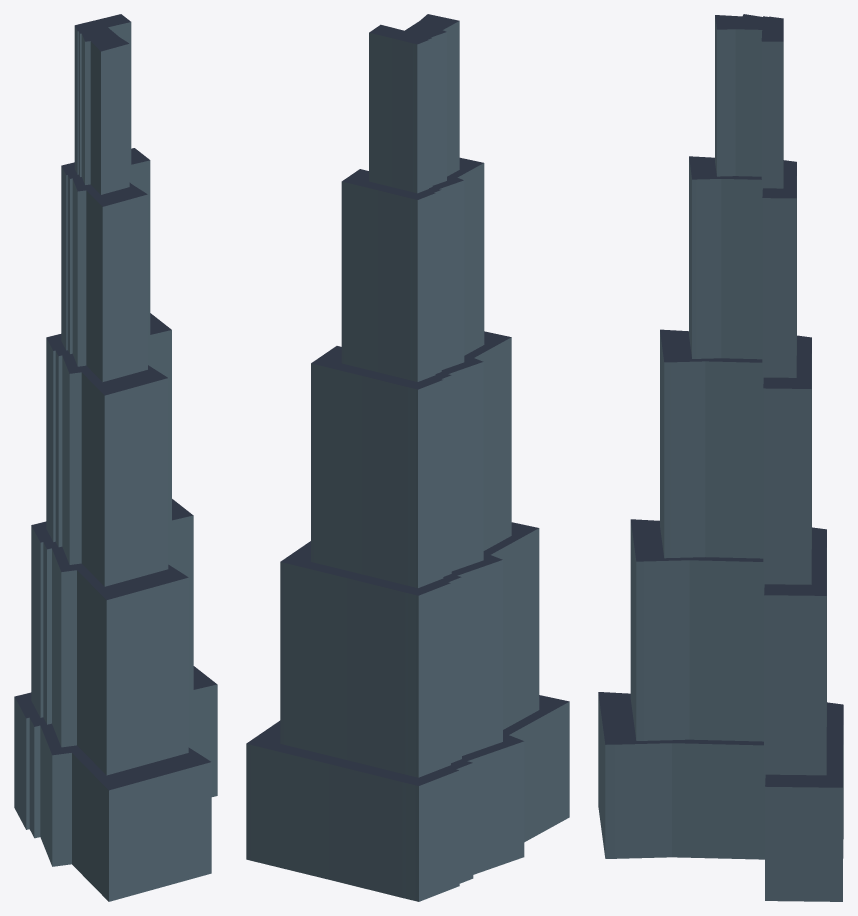
File: 8-bishopsgate.glb
3 renders of one model, left to right at view 1: azimuth 30°, elevation 25°; view 2: azimuth 150°, elevation 25°; view 3: azimuth 270°, elevation 25°, orthographic. The views are drawn at different scales.
Parts seen in each view (by area): view 1: 8-bishopsgate-1, 8-bishopsgate-0, 8-bishopsgate-2, 8-bishopsgate-3, 8-bishopsgate-4; view 2: 8-bishopsgate-1, 8-bishopsgate-2, 8-bishopsgate-0, 8-bishopsgate-3, 8-bishopsgate-4; view 3: 8-bishopsgate-1, 8-bishopsgate-0, 8-bishopsgate-2, 8-bishopsgate-3, 8-bishopsgate-4.
Part boxes in pixels (x1=…): 8-bishopsgate-1: x1=31, y1=499, x2=193, y2=775; 8-bishopsgate-0: x1=14, y1=666, x2=217, y2=901; 8-bishopsgate-2: x1=46, y1=313, x2=171, y2=586; 8-bishopsgate-3: x1=61, y1=148, x2=150, y2=381; 8-bishopsgate-4: x1=74, y1=14, x2=131, y2=194; 8-bishopsgate-1: x1=280, y1=522, x2=539, y2=777; 8-bishopsgate-2: x1=311, y1=331, x2=511, y2=587; 8-bishopsgate-0: x1=246, y1=695, x2=569, y2=901; 8-bishopsgate-3: x1=341, y1=157, x2=484, y2=381; 8-bishopsgate-4: x1=369, y1=14, x2=459, y2=193; 8-bishopsgate-1: x1=630, y1=519, x2=826, y2=775; 8-bishopsgate-0: x1=598, y1=692, x2=843, y2=901; 8-bishopsgate-2: x1=660, y1=329, x2=811, y2=584; 8-bishopsgate-3: x1=689, y1=156, x2=796, y2=377; 8-bishopsgate-4: x1=715, y1=14, x2=783, y2=188.
Size of the model in its own units: 0.5834 by 2.24 by 0.61.
